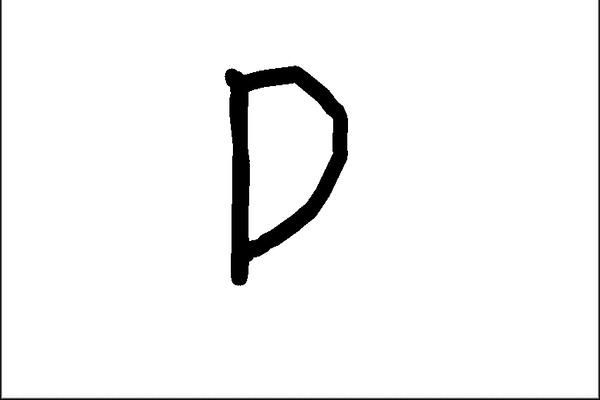D: (215, 58, 359, 288)
